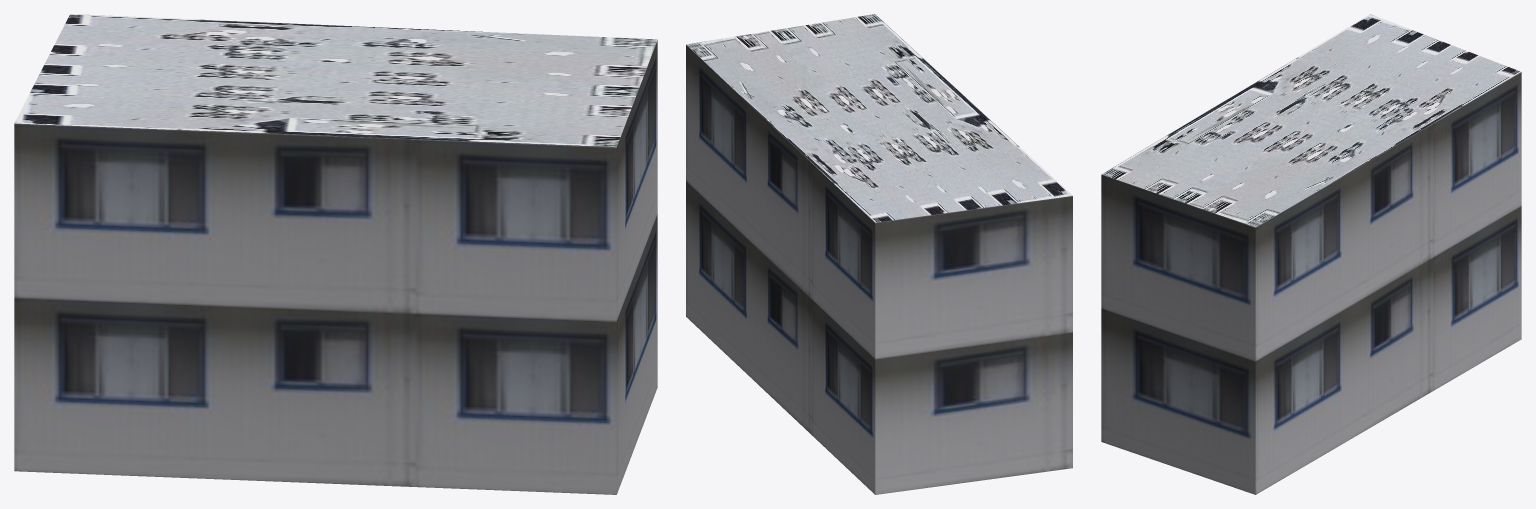
File: ResTex__517.fbx
The picture shows the model from 3 angles, left to right: view 1: azimuth 30°, elevation 25°; view 2: azimuth 150°, elevation 25°; view 3: azimuth 270°, elevation 25°; orthographic projection. The views are drawn at different scales.
Visible parts, largest first — view 1: CityEngineMaterial_9_m, CityEngineMaterial_2_m; view 2: CityEngineMaterial_9_m, CityEngineMaterial_2_m; view 3: CityEngineMaterial_9_m, CityEngineMaterial_2_m.
Boxes of the visible parts, box(x1,y1,x2,y2) form: CityEngineMaterial_9_m: box(14, 40, 657, 494); CityEngineMaterial_2_m: box(14, 14, 657, 147); CityEngineMaterial_9_m: box(686, 45, 1072, 494); CityEngineMaterial_2_m: box(686, 14, 1072, 222); CityEngineMaterial_9_m: box(1101, 72, 1521, 494); CityEngineMaterial_2_m: box(1101, 14, 1520, 227).
Bounding box in the file's own units: 10.27 × 6 × 8.54.
Materials: 2 (2 with a texture image).
